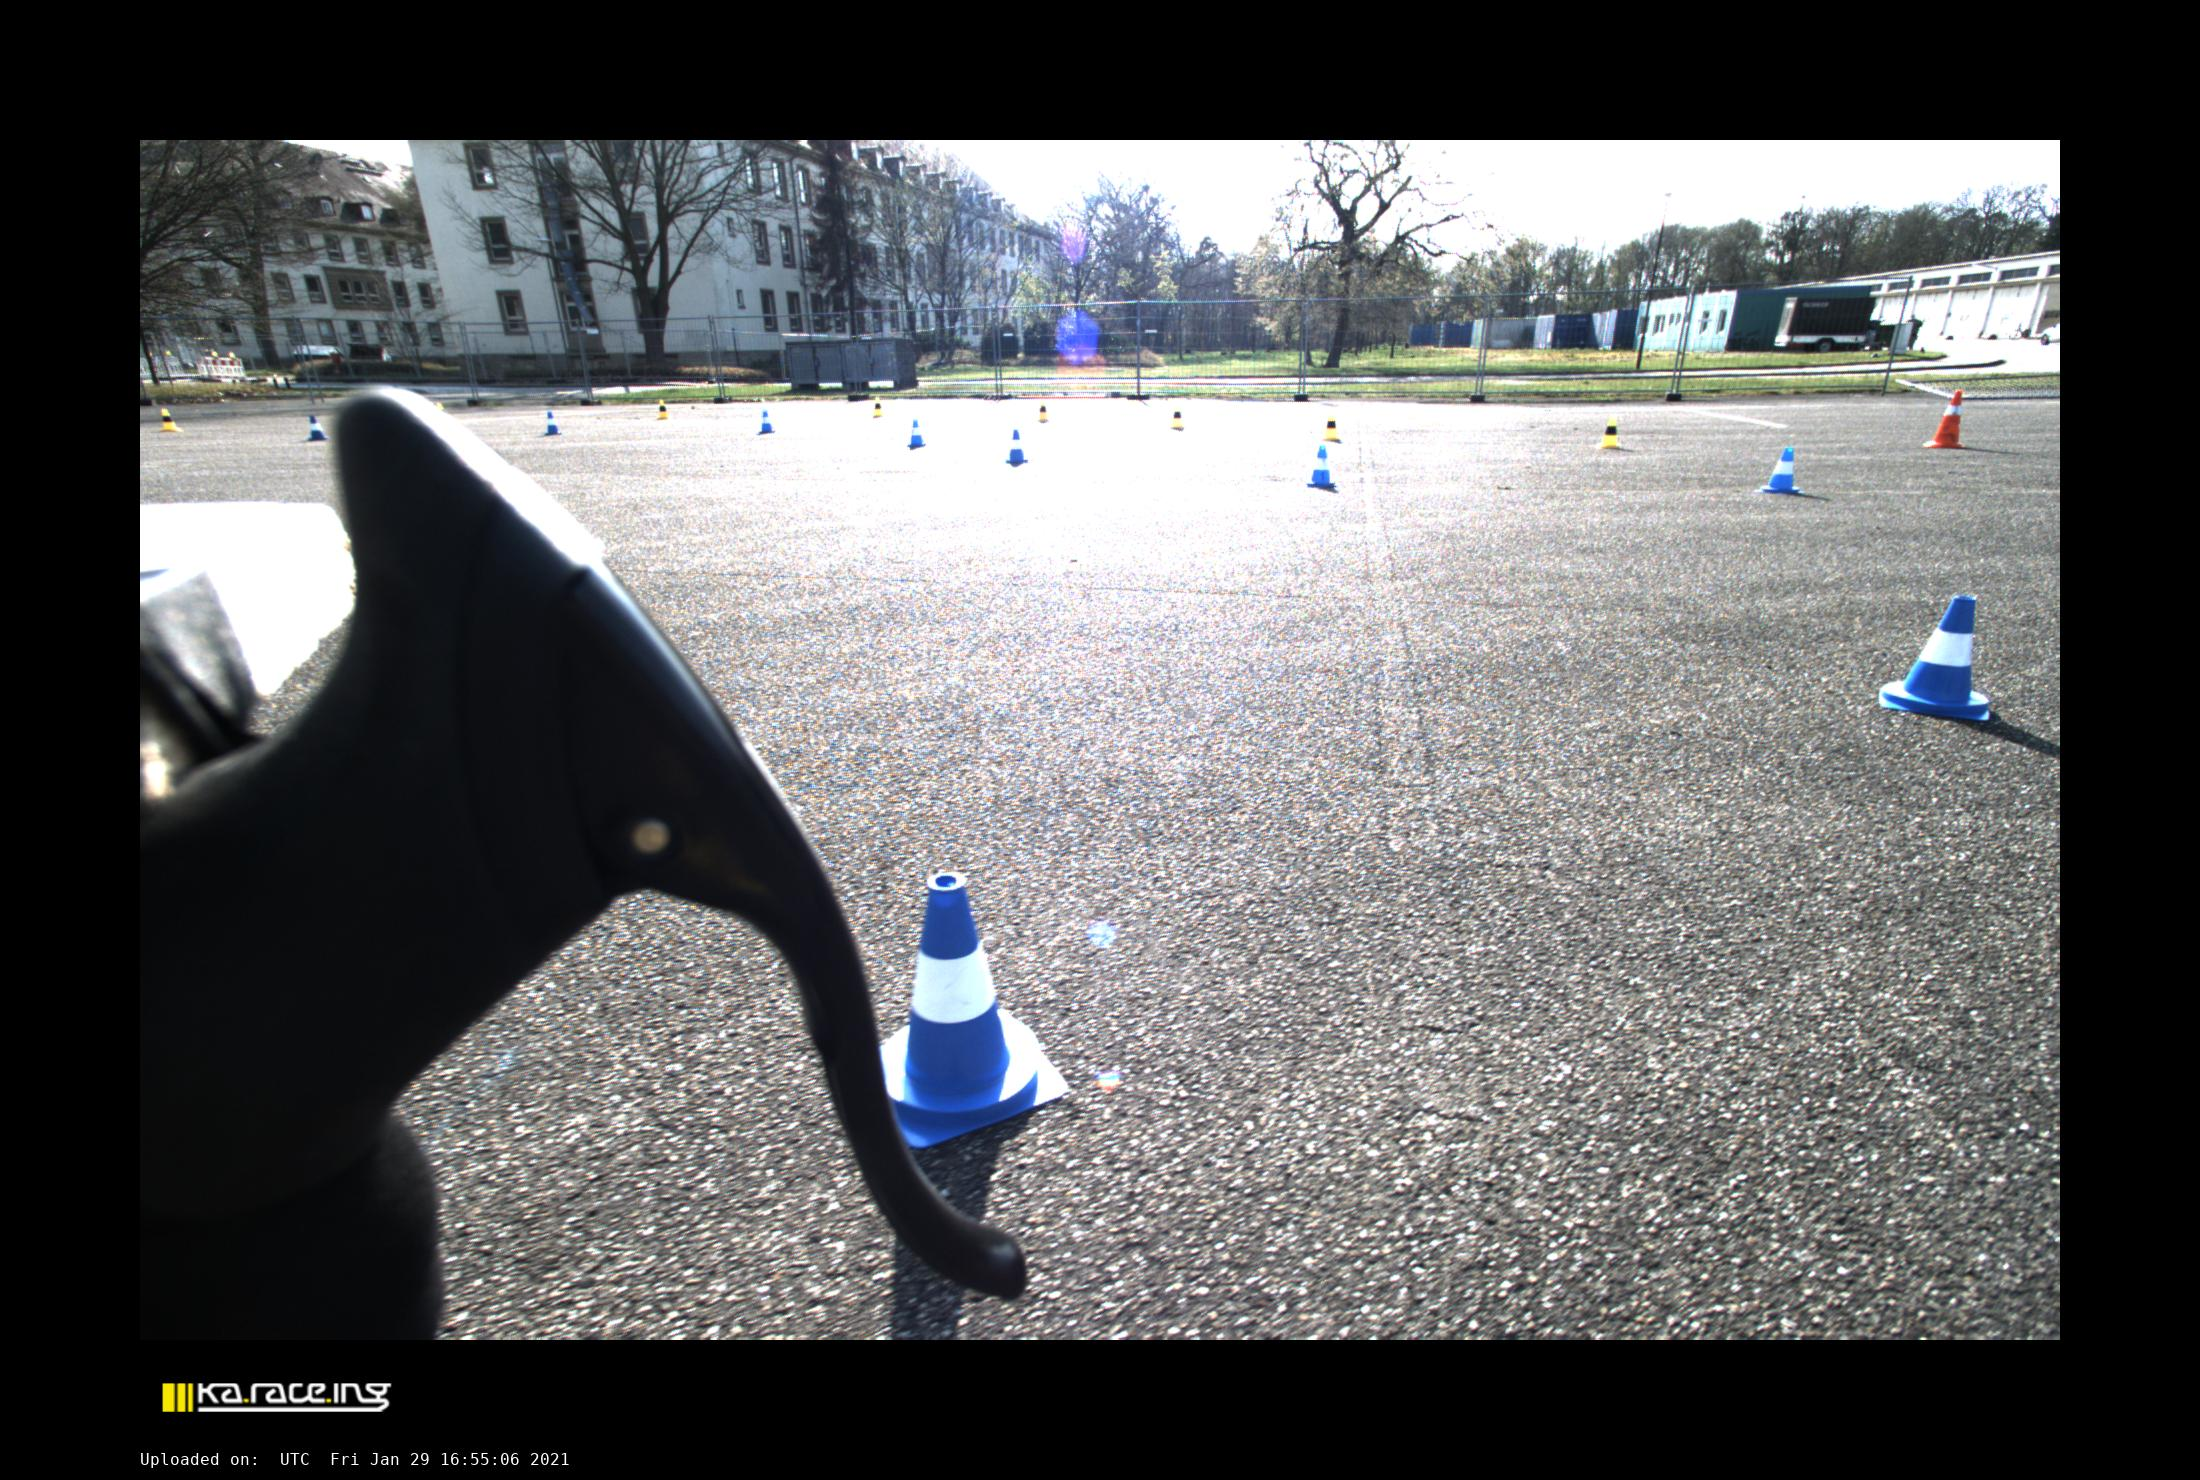blue_cone: (882, 871, 1068, 1148), (1879, 595, 1989, 721), (1756, 447, 1804, 495), (1307, 445, 1338, 487), (1005, 429, 1028, 465), (302, 414, 329, 441), (907, 419, 926, 449), (756, 409, 776, 435), (543, 411, 562, 436)
large_orange_cone: (1923, 389, 1966, 448)
yellow_cone: (1596, 416, 1622, 450), (159, 408, 183, 432), (1322, 416, 1342, 444), (1170, 409, 1185, 432), (1037, 401, 1050, 424), (656, 399, 669, 421), (872, 396, 883, 419)
